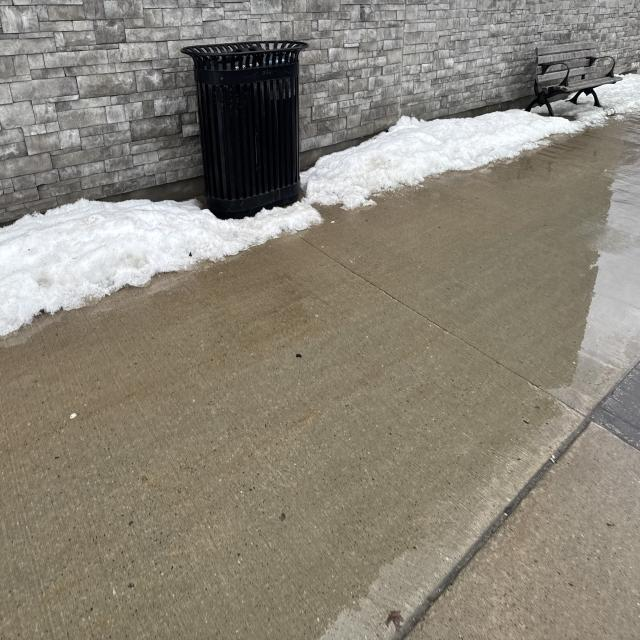Dustbin: (182, 40, 307, 216)
